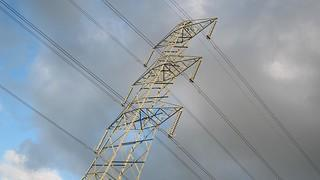power_tower: (82, 14, 220, 180)
